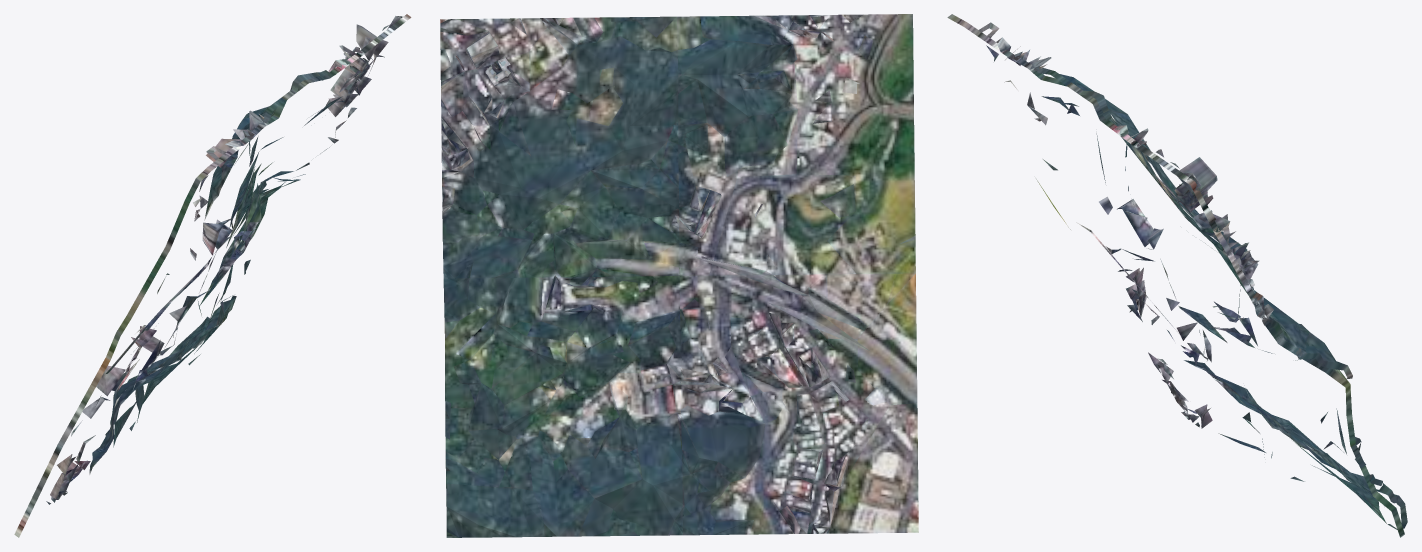
The picture shows the model from 3 angles, left to right: view 1: azimuth 30°, elevation 25°; view 2: azimuth 150°, elevation 25°; view 3: azimuth 270°, elevation 25°; orthographic projection. The views are drawn at different scales.
Size of the model in its own units: 1224 by 1131 by 1098.
2 materials, 2 textured.
